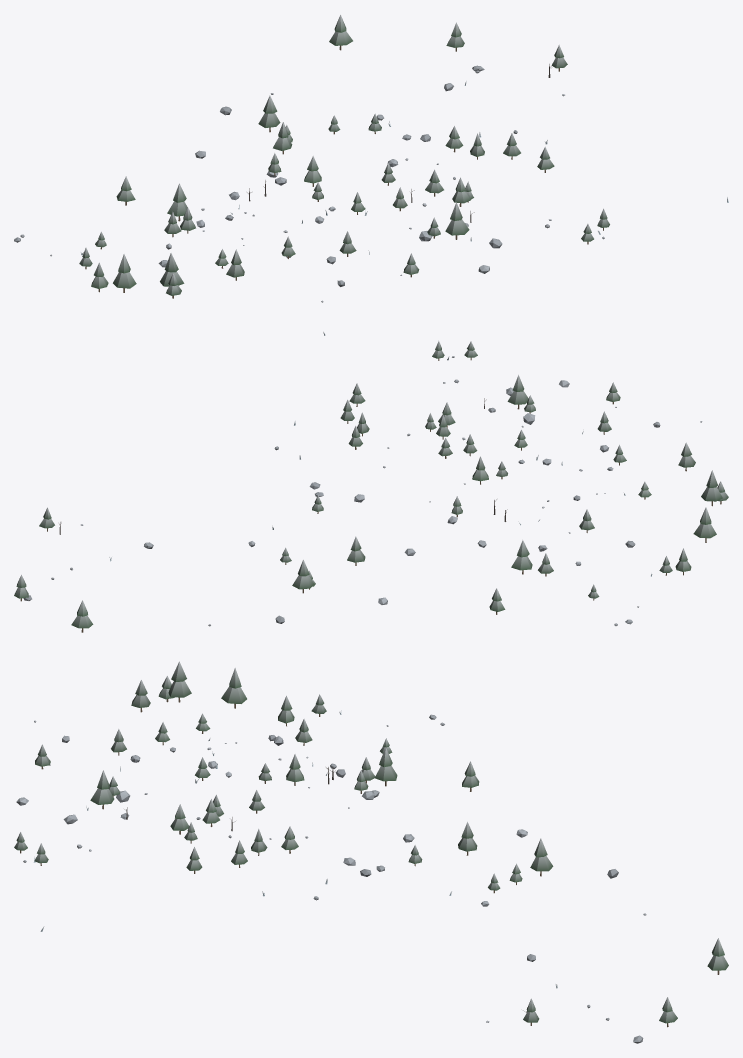
Rendered from frost_land_scatter_c19_11_lod1.glb.
3 renders of one model, top to bottom at view 1: azimuth 30°, elevation 25°; view 2: azimuth 150°, elevation 25°; view 3: azimuth 270°, elevation 25°, orthographic. The views are drawn at different scales.
Parts seen in each view (by area): view 1: frost_land_scatter_c19_11_lod1; view 2: frost_land_scatter_c19_11_lod1; view 3: frost_land_scatter_c19_11_lod1.
Part boxes in pixels (x1,y1,x2,y2): frost_land_scatter_c19_11_lod1: (14,15,728,302); frost_land_scatter_c19_11_lod1: (14,332,728,632); frost_land_scatter_c19_11_lod1: (14,661,728,1043).
Size of the model in its own units: 257 by 51.92 by 256.
